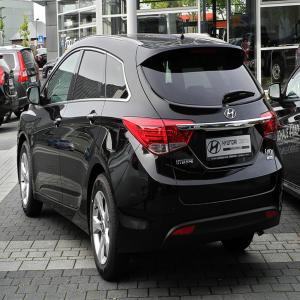Vehicle-registration-plate: (205, 127, 250, 168), (31, 76, 37, 86), (10, 78, 16, 87)
